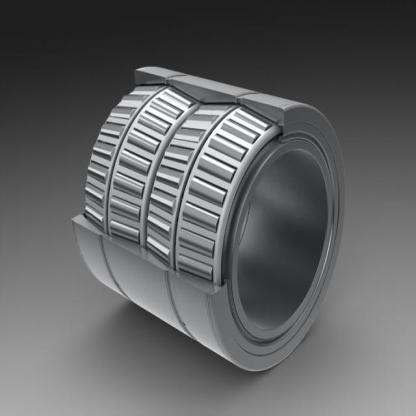FOD: (69, 58, 352, 379)
